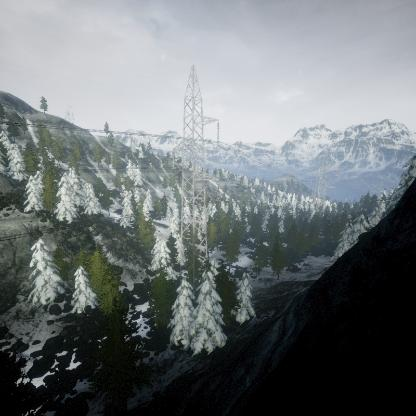tower: (170, 63, 222, 294)
